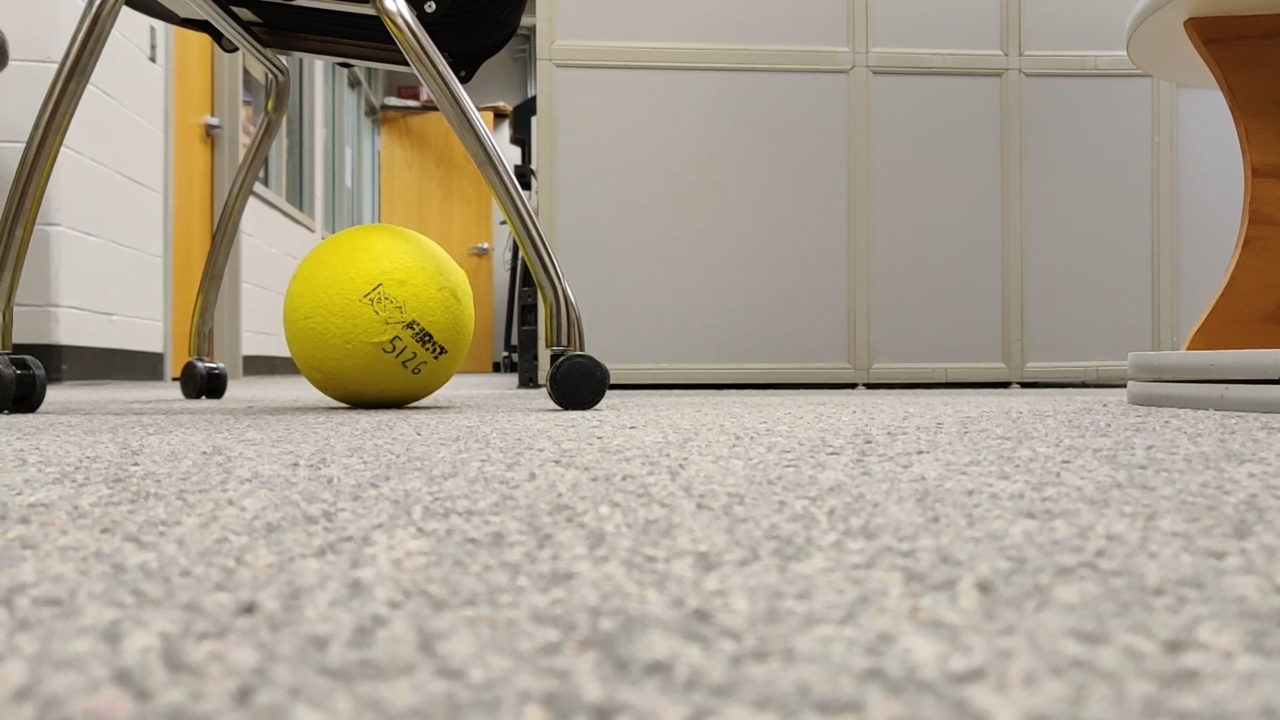Ball: (281, 216, 477, 403)
